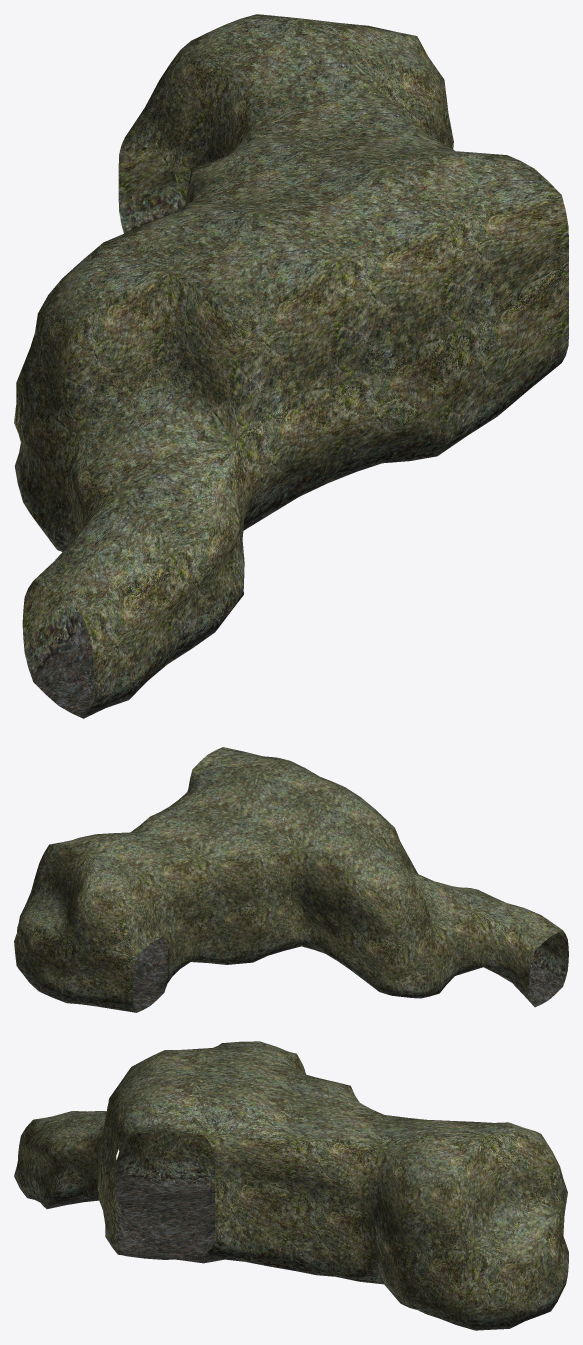
File: thm_all_cave_flatland_s03_damprock_r2_r2.fbx
3 views of the same model, one above another, from view 1: azimuth 30°, elevation 25°; view 2: azimuth 150°, elevation 25°; view 3: azimuth 270°, elevation 25° (orthographic). The views are drawn at different scales.
Visible parts, largest first — view 1: mesh_node; view 2: mesh_node; view 3: mesh_node.
Boxes of the visible parts, bbox=[...] form: mesh_node: bbox=[14, 14, 568, 718]; mesh_node: bbox=[14, 747, 568, 1012]; mesh_node: bbox=[14, 1041, 568, 1330].
Bounding box in the file's own units: 48.79 × 26.36 × 49.81.
